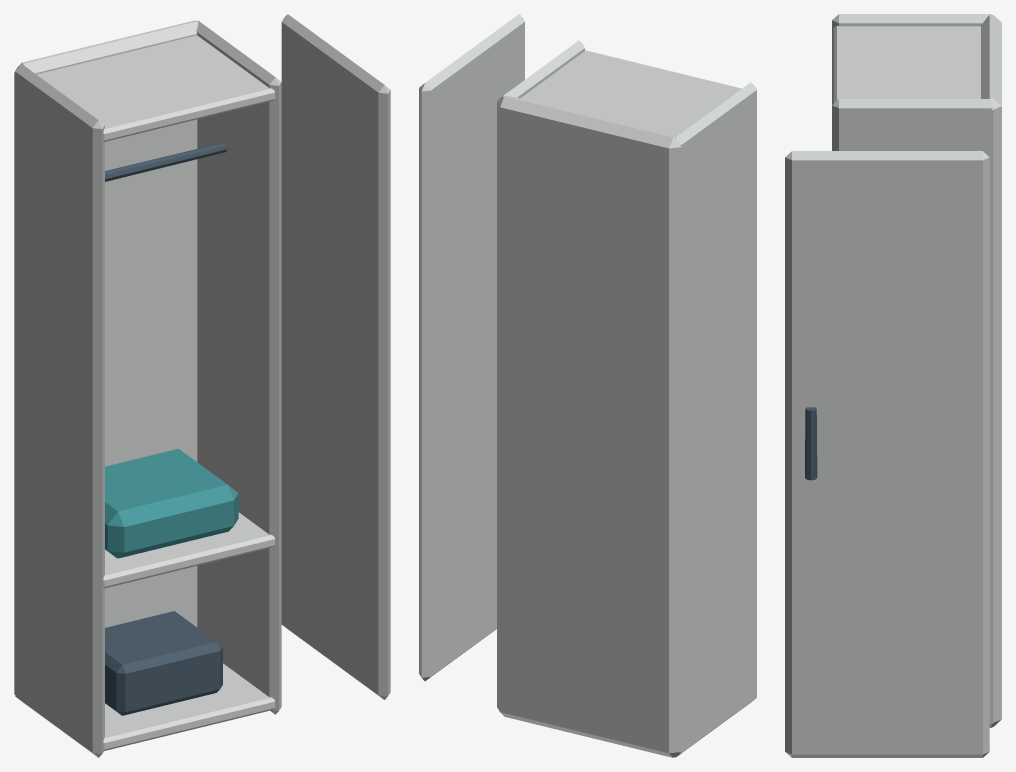
3 renders of one model, left to right at view 1: azimuth 30°, elevation 25°; view 2: azimuth 150°, elevation 25°; view 3: azimuth 270°, elevation 25°, orthographic. The views are drawn at different scales.
Parts seen in each view (by area): view 1: MI-075 Open personal clothing locker batched; view 2: MI-075 Open personal clothing locker batched; view 3: MI-075 Open personal clothing locker batched.
Part boxes in pixels (left/top/right/bottom): MI-075 Open personal clothing locker batched: left=14, top=14, right=390, bottom=757; MI-075 Open personal clothing locker batched: left=419, top=14, right=756, bottom=757; MI-075 Open personal clothing locker batched: left=785, top=14, right=1001, bottom=757.
Bounding box in the file's own units: 0.928 × 2 × 0.625.
